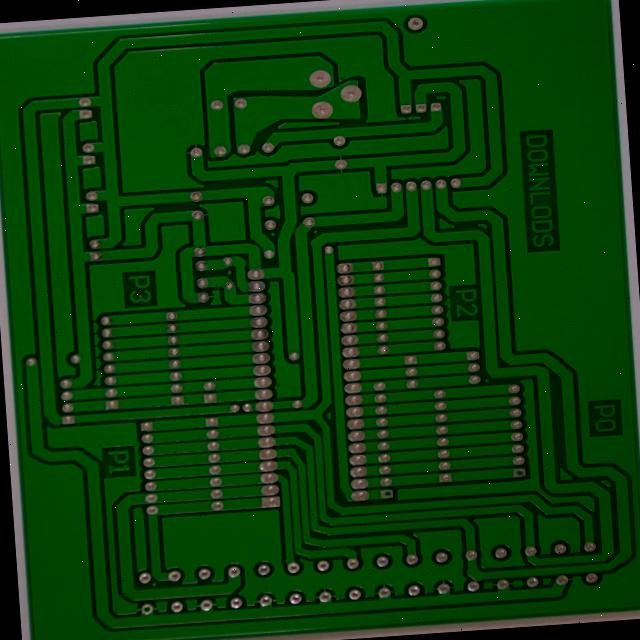missing_hole: (136, 599, 156, 617), (509, 464, 528, 479), (377, 486, 395, 499)
